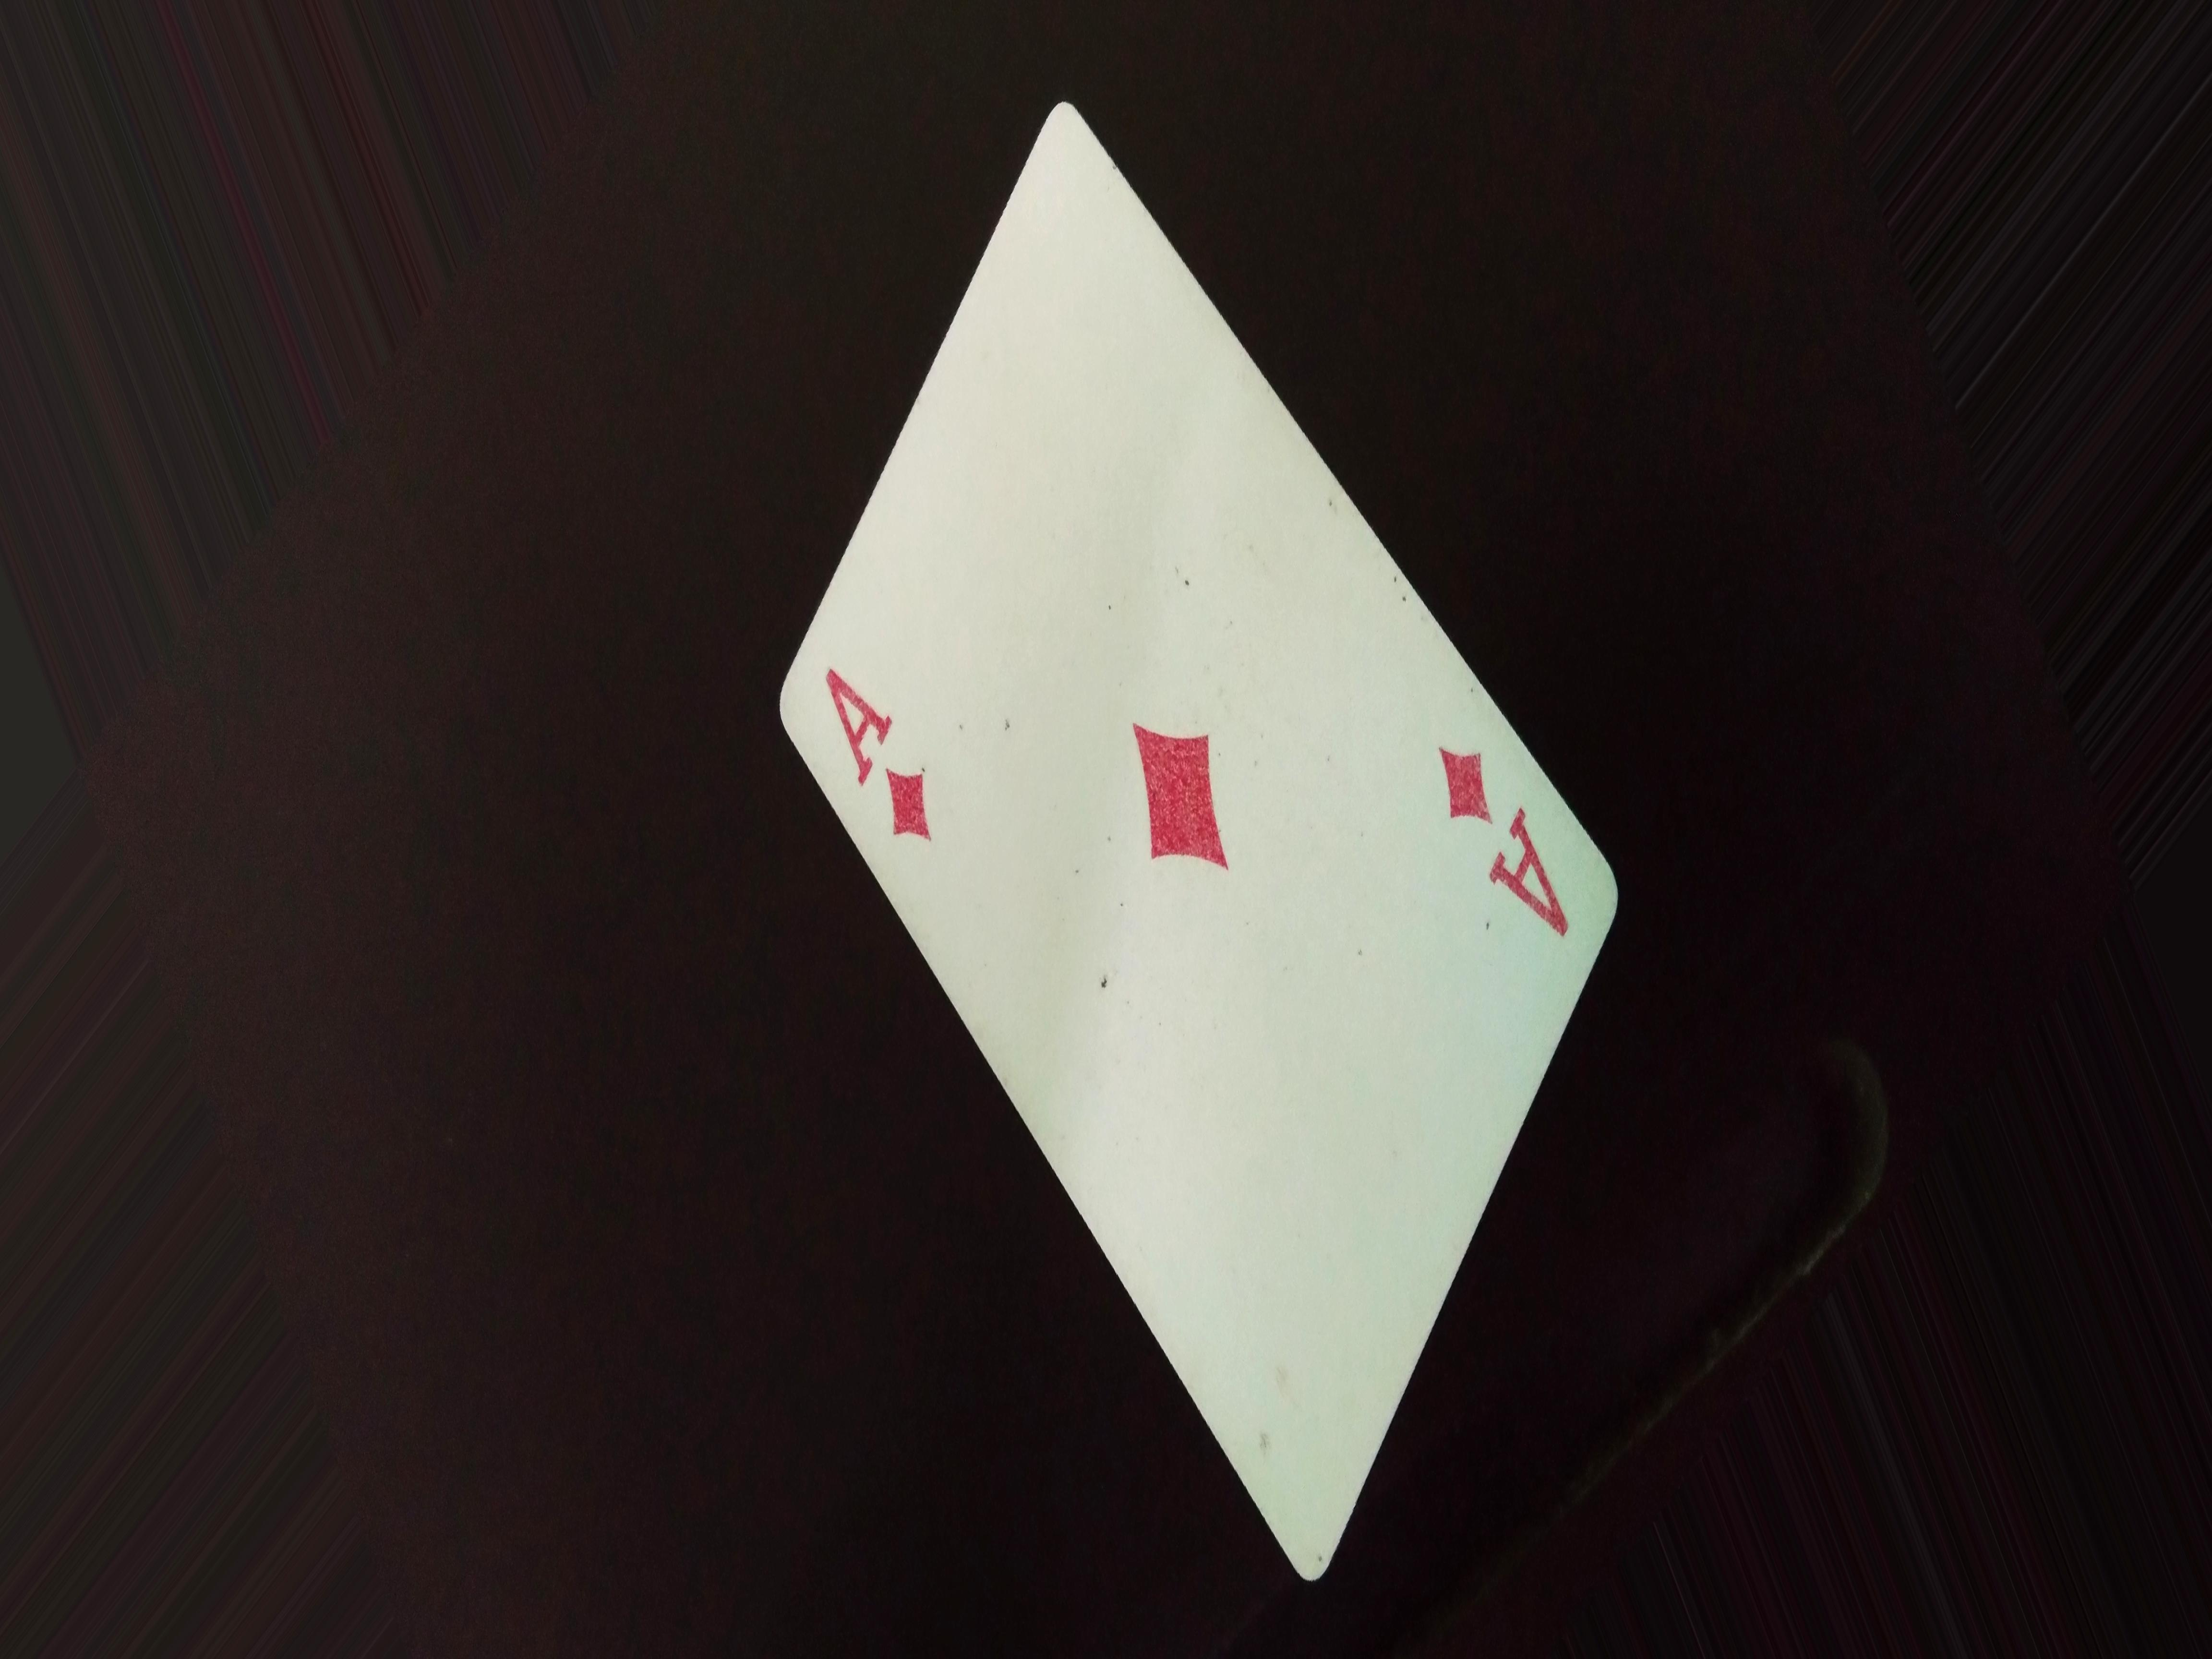AD: (813, 652, 946, 871)
